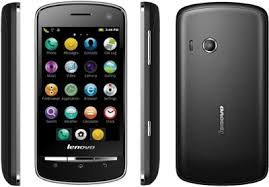lenovo: (34, 1, 127, 185), (175, 2, 267, 187)
